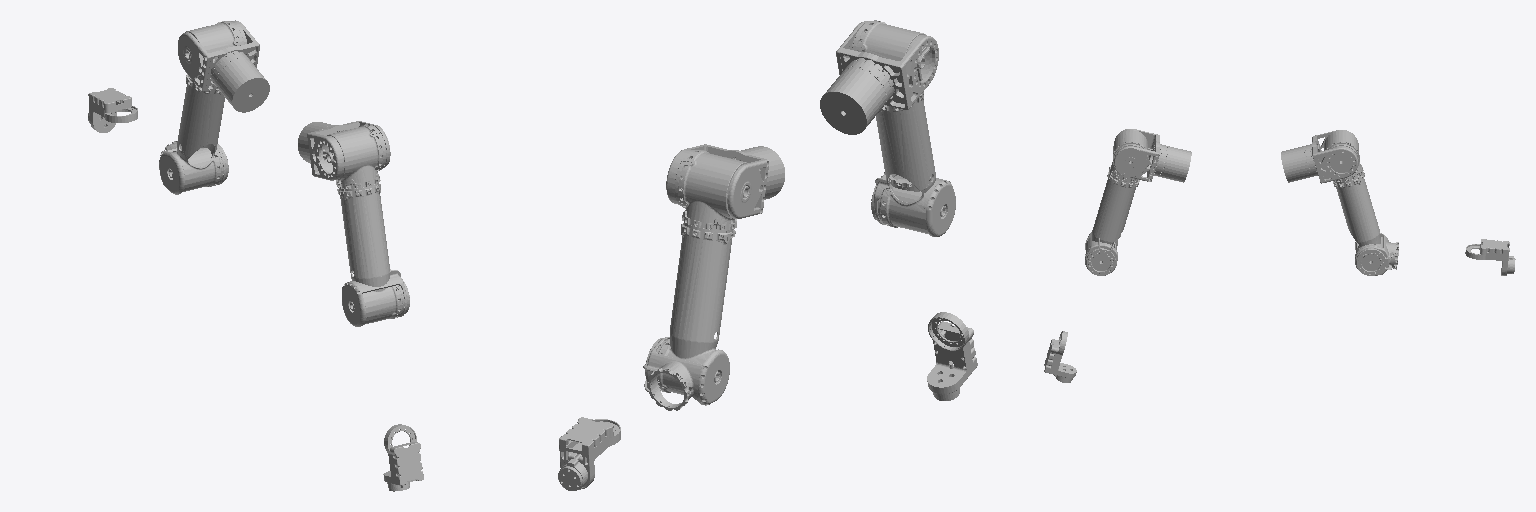
robot.urdf — AUBO_HRM:
<?xml version="1.0"?>
<robot
  name="AUBO_HRM">
  <dh_type type="modified"/>
  <safety_para singularity_consistent="0.02 0.01 10 0.2 0.045 10"/>
  <friction_coeff value="0.5"/>
  <link name="base_link" />

  <joint name="left_fixed_joint" type="fixed">
    <parent link= "base_link" />
    <child link = "left_link0" />
    <!-- <origin xyz="0 0.21423 0.45439" rpy="0 1.3083 1.5707963" /> -->
    <origin xyz="0 0.15911 0.42582" rpy="0 1.3083 1.5707963" />
  </joint>

  <link
    name="left_link0">
    <inertial>
      <origin
        xyz="-0.000004 -0.000007 0.015425"
        rpy="0 0 0" />
      <mass
        value="1.065000" />
      <inertia
        ixx="0.000856" ixy="-0.000000" ixz="-0.000000" iyy="0.000856" iyz="-0.000000" izz="0.000677" />
    </inertial>
    <visual>
      <origin
        xyz="0 0 0"
        rpy="0 0 0" />
      <geometry>
        <mesh filename="package://aubo_arm_l/meshes/visual/link0.STL" />
      </geometry>
      <material
        name="">
        <color
          rgba="0.752941176470588 0.752941176470588 0.752941176470588 1" />
      </material>
    </visual>
    <collision>
      <origin
        xyz="0 0 0"
        rpy="0 0 0" />
      <geometry>
        <mesh filename="package://aubo_arm_l/meshes/collision/link0.STL" />
      </geometry>
    </collision>
  </link>
  <link
    name="left_link1">
    <inertial>
      <origin
        xyz="0.000216 -0.003370 -0.030567"
        rpy="0 0 0" />
      <mass
        value="0.254000" />
      <inertia
        ixx="0.000616" ixy="-0.000002" ixz="-0.000001" iyy="0.000324" iyz="-0.000001" izz="0.000586" />
    </inertial>
    <visual>
      <origin
        xyz="0 0 0"
        rpy="0 0 0" />
      <geometry>
        <mesh filename="package://aubo_arm_l/meshes/visual/link1.STL" />
      </geometry>
      <material
        name="">
        <color
          rgba="0.752941176470588 0.752941176470588 0.752941176470588 1" />
      </material>
    </visual>
    <collision>
      <origin
        xyz="0 0 0"
        rpy="0 0 0" />
      <geometry>
        <mesh filename="package://aubo_arm_l/meshes/collision/link1.STL" />
      </geometry>
    </collision>
  </link>
  <joint
    name="left_joint1"
    type="revolute">
    <origin
      xyz="0 0 0.0767"
      rpy="0 0 0" />
    <parent
      link="left_link0" />
    <child
      link="left_link1" />
    <axis
      xyz="0 0 1" />
    <limit lower="-3.14159265358979" upper="1.785398163397448" effort="40" start_stop="82" velocity="3.14159265358979" />
    <property inertia="1.24" damping="0" stiffness="0" offset="0" motor_constant="5.31" ratio="100" protect_max_torque="0" equa_inertia="0" />
  </joint>
  <link
    name="left_link2">
    <inertial>
      <origin
        xyz="-0.000001 -0.000686 0.007925"
        rpy="0 0 0" />
      <mass
        value="1.258000" />
      <inertia
        ixx="0.001183" ixy="-0.000000" ixz="-0.000000" iyy="0.001157" iyz="-0.000006" izz="0.000996" />
    </inertial>
    <visual>
      <origin
        xyz="0 0 0"
        rpy="0 0 0" />
      <geometry>
        <mesh filename="package://aubo_arm_l/meshes/visual/link2.STL" />
      </geometry>
      <material
        name="">
        <color
          rgba="0.75294 0.75294 0.75294 1" />
      </material>
    </visual>
    <collision>
      <origin
        xyz="0 0 0"
        rpy="0 0 0" />
      <geometry>
        <mesh filename="package://aubo_arm_l/meshes/collision/link2.STL" />
      </geometry>
    </collision>
  </link>
  <joint
    name="left_joint2"
    type="revolute">
    <origin
      xyz="0 0 0.0"
      rpy="1.5707963267948966192313216916398 -1.5707963267948966192313216916398 0" />
    <parent
      link="left_link1" />
    <child
      link="left_link2" />
    <axis
      xyz="0 0 1" />
    <limit lower="0" upper="1.74532925199433" effort="40" start_stop="82" velocity="3.14159265358979" />
    <property inertia="1.24" damping="0" stiffness="0" offset="0" motor_constant="5.31" ratio="100" protect_max_torque="0" equa_inertia="0" />
  </joint>
  <link
    name="left_link3">
    <inertial>
      <origin
        xyz="0.000259 0.004337 -0.082770"
        rpy="0 0 0" />
      <mass
        value="1.810000" />
      <inertia
        ixx="0.013999" ixy="0.000002" ixz="-0.000017" iyy="0.013812" iyz="-0.000650" izz="0.001277" />
    </inertial>
    <visual>
      <origin
        xyz="0 0 0"
        rpy="0 0 0" />
      <geometry>
        <mesh filename="package://aubo_arm_l/meshes/visual/link3.STL" />
      </geometry>
      <material
        name="">
        <color
          rgba="0.752941176470588 0.752941176470588 0.752941176470588 1" />
      </material>
    </visual>
    <collision>
      <origin
        xyz="0 0 0"
        rpy="0 0 0" />
      <geometry>
        <mesh filename="package://aubo_arm_l/meshes/collision/link3.STL" />
      </geometry>
    </collision>
  </link>
  <joint
    name="left_joint3"
    type="revolute">
    <origin
      xyz="0 -0.253 0"
      rpy="1.5707963267948966192313216916398 0 0" />
    <parent
      link="left_link2" />
    <child
      link="left_link3" />
    <axis
      xyz="0 0 1" />
    <limit lower="-2.26892802759263" upper="2.26892802759263" effort="22" start_stop="42" velocity="4.18879020478639" />
    <property inertia="0.2" damping="0" stiffness="0" offset="0" motor_constant="4.5" ratio="100" protect_max_torque="0" equa_inertia="0" />
  </joint>
  <link
    name="left_link4">
    <inertial>
      <origin
        xyz="0.002858 -0.021411 0.004644"
        rpy="0 0 0" />
      <mass
        value="0.155000" />
      <inertia
        ixx="0.000300" ixy="0.000005" ixz="0.000002" iyy="0.000263" iyz="-0.000003" izz="0.000157" />
    </inertial>
    <visual>
      <origin
        xyz="0 0 0"
        rpy="0 0 0" />
      <geometry>
        <mesh filename="package://aubo_arm_l/meshes/visual/link4.STL" />
      </geometry>
      <material
        name="">
        <color
          rgba="0.75294 0.75294 0.75294 1" />
      </material>
    </visual>
    <collision>
      <origin
        xyz="0 0 0"
        rpy="0 0 0" />
      <geometry>
        <mesh filename="package://aubo_arm_l/meshes/collision/link4.STL" />
      </geometry>
    </collision>
  </link>
  <joint
    name="left_joint4"
    type="revolute">
    <origin
      xyz="0 0 0"
      rpy="-1.5707963267948966192313216916398 0 0" />
    <parent
      link="left_link3" />
    <child
      link="left_link4" />
    <axis
      xyz="0 0 1" />
    <limit lower="0.15" upper="2.26892802759263" effort="22" start_stop="42" velocity="4.18879020478639" />
    <property inertia="0.2" damping="0" stiffness="0" offset="0" motor_constant="4.5" ratio="100" protect_max_torque="0" equa_inertia="0" />
  </joint>
  <link
    name="left_link5">
    <inertial>
      <origin
        xyz="0.002858 0.004328 -0.106584"
        rpy="0 0 0" />
      <mass
        value="1.191000" />
      <inertia
        ixx="0.002945" ixy="-0.000053" ixz="0.000071" iyy="0.002574" iyz="-0.000245" izz="0.000888" />
    </inertial>
    <visual>
      <origin
        xyz="0 0 0"
        rpy="0 0 0" />
      <geometry>
        <mesh filename="package://aubo_arm_l/meshes/visual/link5.STL" />
      </geometry>
      <material
        name="">
        <color
          rgba="0.752941176470588 0.752941176470588 0.752941176470588 1" />
      </material>
    </visual>
    <collision>
      <origin
        xyz="0 0 0"
        rpy="0 0 0" />
      <geometry>
        <mesh filename="package://aubo_arm_l/meshes/collision/link5.STL" />
      </geometry>
    </collision>
  </link>
  <joint
    name="left_joint5"
    type="revolute">
    <origin
      xyz="0 -0.2355 0"
      rpy="1.5707963267948966192313216916398 0 0" />
    <parent
      link="left_link4" />
    <child
      link="left_link5" />
    <axis
      xyz="0 0 1" />
    <limit lower="-2.26892802759263" upper="2.26892802759263" effort="8" start_stop="15" velocity="3.14159265358979" />
    <property inertia="0.085" damping="0" stiffness="0" offset="0" motor_constant="4.63" ratio="100" protect_max_torque="0" equa_inertia="0" />
  </joint>
  <link
    name="left_link6">
    <inertial>
      <origin
        xyz="0.002858 -0.003777 0.001004"
        rpy="0 0 0" />
      <mass
        value="0.519000" />
      <inertia
        ixx="0.000282" ixy="-0.000000" ixz="-0.000000" iyy="0.000213" iyz="0.000009" izz="0.000254" />
    </inertial>
    <visual>
      <origin
        xyz="0 0 0"
        rpy="0 0 0" />
      <geometry>
        <mesh filename="package://aubo_arm_l/meshes/visual/link6.STL" />
      </geometry>
      <material
        name="">
        <color
          rgba="0.75294 0.75294 0.75294 1" />
      </material>
    </visual>
    <collision>
      <origin
        xyz="0 0 0"
        rpy="0 0 0" />
      <geometry>
        <mesh filename="package://aubo_arm_l/meshes/collision/link6.STL" />
      </geometry>
    </collision>
  </link>
  <joint
    name="left_joint6"
    type="revolute">
    <origin
      xyz="0 0 0"
      rpy="-1.5707963267948966192313216916398 -1.5707963267948966192313216916398 0" />
    <parent
      link="left_link5" />
    <child
      link="left_link6" />
    <axis
      xyz="0 0 1" />
    <limit lower="-1.30899693899575" upper="1.30899693899575" effort="8" start_stop="15" velocity="3.14159265358979" />
    <property inertia="0.085" damping="0" stiffness="0" offset="0" motor_constant="4.63" ratio="100" protect_max_torque="0" equa_inertia="0" />
  </joint>
  <link
    name="left_link7">
    <inertial>
      <origin
        xyz="-0.000016 -0.066640 -0.015498"
        rpy="0 0 0" />
      <mass
        value="0.212000" />
      <inertia
        ixx="0.000209" ixy="-0.000000" ixz="-0.000000" iyy="0.000112" iyz="-0.000060" izz="0.000181" />
    </inertial>
    <visual>
      <origin
        xyz="0 0 0"
        rpy="0 0 0" />
      <geometry>
        <mesh filename="package://aubo_arm_l/meshes/visual/link7.STL" />
      </geometry>
      <material
        name="">
        <color
          rgba="0.75294 0.75294 0.75294 1" />
      </material>
    </visual>
    <collision>
      <origin
        xyz="0 0 0"
        rpy="0 0 0" />
      <geometry>
        <mesh filename="package://aubo_arm_l/meshes/collision/link7.STL" />
      </geometry>
    </collision>
  </link>
  <joint
    name="left_joint7"
    type="revolute">
    <origin
      xyz="0 0 0"
      rpy="-1.5707963267948966192313216916398 1.5707963267948966192313216916398 0" />
    <parent
      link="left_link6" />
    <child
      link="left_link7" />
    <axis
      xyz="0 0 1" />
    <limit lower="-1.30899693899575" upper="1.30899693899575" effort="8" start_stop="15" velocity="3.14159265358979" />
    <property inertia="0.085" damping="0" stiffness="0" offset="0" motor_constant="4.63" ratio="100" protect_max_torque="0" equa_inertia="0" />
  </joint>
  <link name="left_flange"/>
  <joint name="left_flange" type="fixed">
    <origin rpy="1.5707963267948966192313216916398 0 0" xyz="0 -0.084 0"/>
    <parent link="left_link7"/>
    <child link="left_flange"/>
  </joint>

  <joint name="right_fixed_joint" type="fixed">
    <parent link= "base_link" />
    <child link = "right_link0" />
    <origin xyz="0 -0.15911 0.42582" rpy="0 1.3083 -1.5707963" />
  </joint>

  <link
    name="right_link0">
    <inertial>
      <origin
        xyz="-0.000004 0.000007 -0.015226"
        rpy="0 0 0" />
      <mass
        value="1.065000" />
      <inertia
        ixx="0.000856" ixy="-0.000000" ixz="0.000000" iyy="0.000856" iyz="-0.000000" izz="0.000677" />
    </inertial>
    <visual>
      <origin
        xyz="0 0 0"
        rpy="0 0 0" />
      <geometry>
        <mesh filename="package://aubo_arm_r/meshes/visual/link0.STL" />
      </geometry>
      <material
        name="">
        <color
          rgba="0.752941176470588 0.752941176470588 0.752941176470588 1" />
      </material>
    </visual>
    <collision>
      <origin
        xyz="0 0 0"
        rpy="0 0 0" />
      <geometry>
        <mesh filename="package://aubo_arm_r/meshes/collision/link0.STL" />
      </geometry>
    </collision>
  </link>
  <link
    name="right_link1">
    <inertial>
      <origin
        xyz="0.000216 0.003370 -0.030567"
        rpy="0 0 0" />
      <mass
        value="0.254000" />
      <inertia
        ixx="0.000616" ixy="0.000002" ixz="0.000001" iyy="0.000324" iyz="0.000001" izz="0.000586" />
    </inertial>
    <visual>
      <origin
        xyz="0 0 0"
        rpy="0 0 0" />
      <geometry>
        <mesh filename="package://aubo_arm_r/meshes/visual/link1.STL" />
      </geometry>
      <material
        name="">
        <color
          rgba="0.752941176470588 0.752941176470588 0.752941176470588 1" />
      </material>
    </visual>
    <collision>
      <origin
        xyz="0 0 0"
        rpy="0 0 0" />
      <geometry>
        <mesh filename="package://aubo_arm_r/meshes/collision/link1.STL" />
      </geometry>
    </collision>
  </link>
  <joint
    name="right_joint1"
    type="revolute">
    <origin
      xyz="0 0 0.0767"
      rpy="0 0 0" />
    <parent
      link="right_link0" />
    <child
      link="right_link1" />
    <axis
      xyz="0 0 1" />
    <limit lower="-1.785398163397448" upper="3.14159265358979" effort="40" start_stop="82" velocity="3.14159265358979" />
    <property inertia="1.24" damping="0" stiffness="0" offset="0" motor_constant="5.31" ratio="100" protect_max_torque="0" equa_inertia="0" />
  </joint>
  <link
    name="right_link2">
    <inertial>
      <origin
        xyz="0.000001 0.000686 0.007925"
        rpy="0 0 0" />
      <mass
        value="1.258000" />
      <inertia
        ixx="0.001183" ixy="-0.000000" ixz="0.000000" iyy="0.001157" iyz="0.000006" izz="0.000996" />
    </inertial>
    <visual>
      <origin
        xyz="0 0 0"
        rpy="0 0 0" />
      <geometry>
        <mesh filename="package://aubo_arm_r/meshes/visual/link2.STL" />
      </geometry>
      <material
        name="">
        <color
          rgba="0.75294 0.75294 0.75294 1" />
      </material>
    </visual>
    <collision>
      <origin
        xyz="0 0 0"
        rpy="0 0 0" />
      <geometry>
        <mesh filename="package://aubo_arm_r/meshes/collision/link2.STL" />
      </geometry>
    </collision>
  </link>
  <joint
    name="right_joint2"
    type="revolute">
    <origin
      xyz="0 0 0.0"
      rpy="-1.5707963267948966192313216916398 -1.5707963267948966192313216916398 0" />
    <parent
      link="right_link1" />
    <child
      link="right_link2" />
    <axis
      xyz="0 0 1" />
    <limit lower="-1.74532925199433" upper="0.17" effort="40" start_stop="82" velocity="3.14159265358979" />
    <property inertia="1.24" damping="0" stiffness="0" offset="0" motor_constant="5.31" ratio="100" protect_max_torque="0" equa_inertia="0" />
  </joint>
  <link
    name="right_link3">
    <inertial>
      <origin
        xyz="0.000259 -0.004337 -0.082770"
        rpy="0 0 0" />
      <mass
        value="1.810000" />
      <inertia
        ixx="0.013999" ixy="-0.000002" ixz="-0.000017" iyy="0.013812" iyz="0.000650" izz="0.001277" />
    </inertial>
    <visual>
      <origin
        xyz="0 0 0"
        rpy="0 0 0" />
      <geometry>
        <mesh filename="package://aubo_arm_r/meshes/visual/link3.STL" />
      </geometry>
      <material
        name="">
        <color
          rgba="0.752941176470588 0.752941176470588 0.752941176470588 1" />
      </material>
    </visual>
    <collision>
      <origin
        xyz="0 0 0"
        rpy="0 0 0" />
      <geometry>
        <mesh filename="package://aubo_arm_r/meshes/collision/link3.STL" />
      </geometry>
    </collision>
  </link>
  <joint
    name="right_joint3"
    type="revolute">
    <origin
      xyz="0 0.253 0"
      rpy="-1.5707963267948966192313216916398 0 0" />
    <parent
      link="right_link2" />
    <child
      link="right_link3" />
    <axis
      xyz="0 0 1" />
    <limit lower="-2.26892802759263" upper="2.26892802759263" effort="22" start_stop="42" velocity="4.18879020478639" />
    <property inertia="0.2" damping="0" stiffness="0" offset="0" motor_constant="4.5" ratio="100" protect_max_torque="0" equa_inertia="0" />
  </joint>
  <link
    name="right_link4">
    <inertial>
      <origin
        xyz="0.002858 0.021411 0.004644"
        rpy="0 0 0" />
      <mass
        value="0.155000" />
      <inertia
        ixx="0.000300" ixy="-0.000005" ixz="0.000002" iyy="0.000263" iyz="0.000003" izz="0.000157" />
    </inertial>
    <visual>
      <origin
        xyz="0 0 0"
        rpy="0 0 0" />
      <geometry>
        <mesh filename="package://aubo_arm_r/meshes/visual/link4.STL" />
      </geometry>
      <material
        name="">
        <color
          rgba="0.75294 0.75294 0.75294 1" />
      </material>
    </visual>
    <collision>
      <origin
        xyz="0 0 0"
        rpy="0 0 0" />
      <geometry>
        <mesh filename="package://aubo_arm_r/meshes/collision/link4.STL" />
      </geometry>
    </collision>
  </link>
  <joint
    name="right_joint4"
    type="revolute">
    <origin
      xyz="0 0 0"
      rpy="1.5707963267948966192313216916398 0 0" />
    <parent
      link="right_link3" />
    <child
      link="right_link4" />
    <axis
      xyz="0 0 1" />
    <limit lower="-2.26892802759263" upper="0" effort="22" start_stop="42" velocity="4.18879020478639" />
    <property inertia="0.2" damping="0" stiffness="0" offset="0" motor_constant="4.5" ratio="100" protect_max_torque="0" equa_inertia="0" />
  </joint>
  <link
    name="right_link5">
    <inertial>
      <origin
        xyz="-0.000993 -0.004328 -0.106584"
        rpy="0 0 0" />
      <mass
        value="1.191000" />
      <inertia
        ixx="0.002945" ixy="-0.000053" ixz="0.000071" iyy="0.002574" iyz="0.000245" izz="0.000888" />
    </inertial>
    <visual>
      <origin
        xyz="0 0 0"
        rpy="0 0 0" />
      <geometry>
        <mesh filename="package://aubo_arm_r/meshes/visual/link5.STL" />
      </geometry>
      <material
        name="">
        <color
          rgba="0.752941176470588 0.752941176470588 0.752941176470588 1" />
      </material>
    </visual>
    <collision>
      <origin
        xyz="0 0 0"
        rpy="0 0 0" />
      <geometry>
        <mesh filename="package://aubo_arm_r/meshes/collision/link5.STL" />
      </geometry>
    </collision>
  </link>
  <joint
    name="right_joint5"
    type="revolute">
    <origin
      xyz="0 0.2355 0"
      rpy="-1.5707963267948966192313216916398 0 0" />
    <parent
      link="right_link4" />
    <child
      link="right_link5" />
    <axis
      xyz="0 0 1" />
    <limit lower="-3.14" upper="3.14" effort="8" start_stop="15" velocity="3.14159265358979" />
    <property inertia="0.085" damping="0" stiffness="0" offset="0" motor_constant="4.63" ratio="100" protect_max_torque="0" equa_inertia="0" />
  </joint>
  <link
    name="right_link6">
    <inertial>
      <origin
        xyz="0.000000 0.003777 0.001004"
        rpy="0 0 0" />
      <mass
        value="0.519000" />
      <inertia
        ixx="0.000282" ixy="-0.000000" ixz="-0.000000" iyy="0.000213" iyz="-0.000009" izz="0.000254" />
    </inertial>
    <visual>
      <origin
        xyz="0 0 0"
        rpy="0 0 0" />
      <geometry>
        <mesh filename="package://aubo_arm_r/meshes/visual/link6.STL" />
      </geometry>
      <material
        name="">
        <color
          rgba="0.75294 0.75294 0.75294 1" />
      </material>
    </visual>
    <collision>
      <origin
        xyz="0 0 0"
        rpy="0 0 0" />
      <geometry>
        <mesh filename="package://aubo_arm_r/meshes/collision/link6.STL" />
      </geometry>
    </collision>
  </link>
  <joint
    name="right_joint6"
    type="revolute">
    <origin
      xyz="0 0 0"
      rpy="1.5707963267948966192313216916398 -1.5707963267948966192313216916398 0" />
    <parent
      link="right_link5" />
    <child
      link="right_link6" />
    <axis
      xyz="0 0 1" />
    <limit lower="-1.30899693899575" upper="1.30899693899575" effort="8" start_stop="15" velocity="3.14159265358979" />
    <property inertia="0.085" damping="0" stiffness="0" offset="0" motor_constant="4.63" ratio="100" protect_max_torque="0" equa_inertia="0" />
  </joint>
  <link
    name="right_link7">
    <inertial>
      <origin
        xyz="0.212000 -0.052633 0.013209"
        rpy="0 0 0" />
      <mass
        value="0.212000" />
      <inertia
        ixx="0.000209" ixy="-0.000000" ixz="-0.000000" iyy="0.000112" iyz="-0.000060" izz="0.000181" />
    </inertial>
    <visual>
      <origin
        xyz="0 0 0"
        rpy="0 0 0" />
      <geometry>
        <mesh filename="package://aubo_arm_r/meshes/visual/link7.STL" />
      </geometry>
      <material
        name="">
        <color
          rgba="0.75294 0.75294 0.75294 1" />
      </material>
    </visual>
    <collision>
      <origin
        xyz="0 0 0"
        rpy="0 0 0" />
      <geometry>
        <mesh filename="package://aubo_arm_r/meshes/collision/link7.STL" />
      </geometry>
    </collision>
  </link>
  <joint
    name="right_joint7"
    type="revolute">
    <origin
      xyz="0 0 0"
      rpy="1.5707963267948966192313216916398 -1.5707963267948966192313216916398 0" />
    <parent
      link="right_link6" />
    <child
      link="right_link7" />
    <axis
      xyz="0 0 1" />
    <limit lower="-1.30899693899575" upper="1.30899693899575" effort="8" start_stop="15" velocity="3.14159265358979" />
    <property inertia="0.085" damping="0" stiffness="0" offset="0" motor_constant="4.63" ratio="100" protect_max_torque="0" equa_inertia="0" />
  </joint>
  <link name="right_flange"/>
  <joint name="right_flange" type="fixed">
    <origin rpy="1.5707963267948966192313216916398 0 0" xyz="0 -0.084 0"/>
    <parent link="right_link7"/>
    <child link="right_flange"/>
  </joint>

</robot>

--- What the picture shows (computed from the rendered views, not written in the file) ---
Views: 3 orthographic renders of the robot side by side, from view 1: azimuth 30°, elevation 25°; view 2: azimuth 150°, elevation 25°; view 3: azimuth 270°, elevation 25°.
Model AUBO_HRM with 19 links and 18 joints (14 revolute, 4 fixed), rooted at base_link, posed all joints at 0 but 1 set to mid-range because 0 is outside their limits (left_joint4 = 1.21).
Visible links, largest first — view 1: right_link3, left_link3, right_link2, left_link0, left_link1, right_link7, right_link1, left_link7, right_link4, left_link2, left_link4; view 2: left_link3, right_link3, left_link2, right_link0, left_link4, right_link7, left_link7, right_link1, left_link1, right_link2, right_link4, left_link0; view 3: left_link3, right_link3, right_link2, left_link1, left_link2, right_link0, left_link0, left_link7, left_link4, right_link7, right_link1, right_link4.
Link boxes in pixels (left/top/right/bottom): right_link3: left=337, top=180, right=404, bottom=324; left_link3: left=169, top=74, right=224, bottom=191; right_link2: left=323, top=124, right=390, bottom=188; left_link0: left=210, top=51, right=269, bottom=112; left_link1: left=178, top=20, right=259, bottom=91; right_link7: left=383, top=424, right=423, bottom=491; right_link1: left=307, top=121, right=389, bottom=180; left_link7: left=88, top=88, right=137, bottom=132; right_link4: left=342, top=269, right=409, bottom=326; left_link2: left=185, top=21, right=243, bottom=79; left_link4: left=159, top=141, right=228, bottom=194; left_link3: left=657, top=220, right=735, bottom=394; right_link3: left=876, top=92, right=945, bottom=234; left_link2: left=675, top=150, right=749, bottom=229; right_link0: left=820, top=58, right=894, bottom=134; left_link4: left=643, top=337, right=729, bottom=410; right_link7: left=927, top=312, right=977, bottom=400; left_link7: left=558, top=417, right=620, bottom=490; right_link1: left=836, top=21, right=938, bottom=109; left_link1: left=666, top=144, right=768, bottom=218; right_link2: left=851, top=20, right=929, bottom=81; right_link4: left=871, top=172, right=955, bottom=236; left_link0: left=741, top=146, right=784, bottom=199; left_link3: left=1333, top=172, right=1382, bottom=272; right_link3: left=1085, top=172, right=1139, bottom=272; right_link2: left=1109, top=130, right=1148, bottom=182; left_link1: left=1312, top=130, right=1357, bottom=183; left_link2: left=1324, top=130, right=1363, bottom=182; right_link0: left=1154, top=144, right=1191, bottom=182; left_link0: left=1281, top=144, right=1317, bottom=182; left_link7: left=1465, top=239, right=1515, bottom=275; left_link4: left=1355, top=233, right=1398, bottom=275; right_link7: left=1044, top=331, right=1076, bottom=382; right_link1: left=1114, top=129, right=1159, bottom=181; right_link4: left=1085, top=232, right=1120, bottom=275.
Size in the robot's own frame: 0.107 by 1.04 by 0.5978 metres.
Meshes: 16 distinct files referenced, 12 mesh visuals loaded (8 binary STL); not drawn: 4 (reference not matched to a file when rendering).